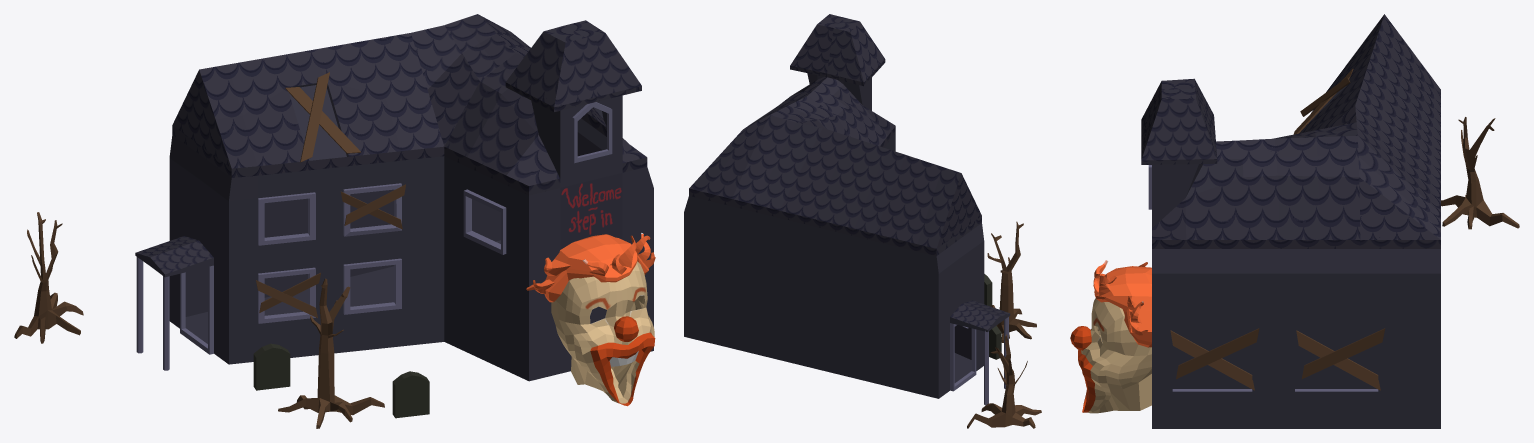
File: Haunted.houseV1.fbx
The picture shows the model from 3 angles, left to right: view 1: azimuth 30°, elevation 25°; view 2: azimuth 150°, elevation 25°; view 3: azimuth 270°, elevation 25°; orthographic projection. The views are drawn at different scales.
Parts seen in each view (by area): view 1: Cube, Head_hunted_house, Cube.009, Cylinder, Cylinder.001, Cube.010, Cube.011; view 2: Cube, Cylinder.001, Cylinder, Cube.011; view 3: Cube, Head_hunted_house, Cube.009, Cylinder.001.
Boxes of the visible parts, x1,y1,x2,y2 form: Cube: [135, 14, 653, 381]; Head_hunted_house: [526, 233, 655, 406]; Cube.009: [255, 72, 405, 317]; Cylinder: [278, 278, 384, 428]; Cylinder.001: [14, 212, 83, 343]; Cube.010: [392, 371, 429, 418]; Cube.011: [253, 343, 290, 390]; Cube: [684, 14, 1010, 405]; Cylinder.001: [967, 334, 1041, 428]; Cylinder: [987, 221, 1036, 342]; Cube.011: [989, 325, 1001, 359]; Cube: [1141, 14, 1440, 428]; Head_hunted_house: [1070, 260, 1151, 413]; Cube.009: [1170, 69, 1385, 390]; Cylinder.001: [1441, 117, 1519, 229].
Size of the model in its own units: 1684 by 1433 by 1133.
